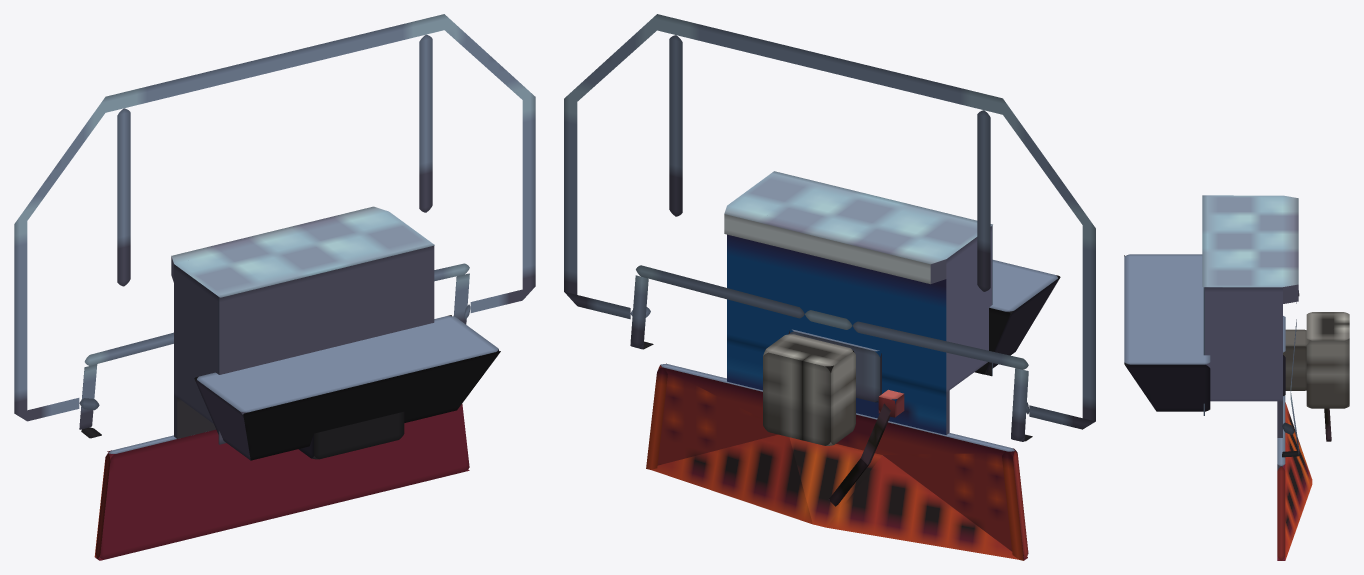
File: df5_cowcatcher.obj
3 renders of one model, left to right at view 1: azimuth 30°, elevation 25°; view 2: azimuth 150°, elevation 25°; view 3: azimuth 270°, elevation 25°, orthographic. The views are drawn at different scales.
Parts seen in each view (by area): view 1: 排障器_selection_selection_selection_selection_selection_selection_; view 2: 排障器_selection_selection_selection_selection_selection_selection_; view 3: 排障器_selection_selection_selection_selection_selection_selection_.
Part boxes in pixels (<box>): 排障器_selection_selection_selection_selection_selection_selection_: <box>14,14,535,560</box>; 排障器_selection_selection_selection_selection_selection_selection_: <box>564,14,1095,560</box>; 排障器_selection_selection_selection_selection_selection_selection_: <box>1124,195,1349,560</box>.
Size of the model in its own units: 3.06 by 2.54 by 1.31.
